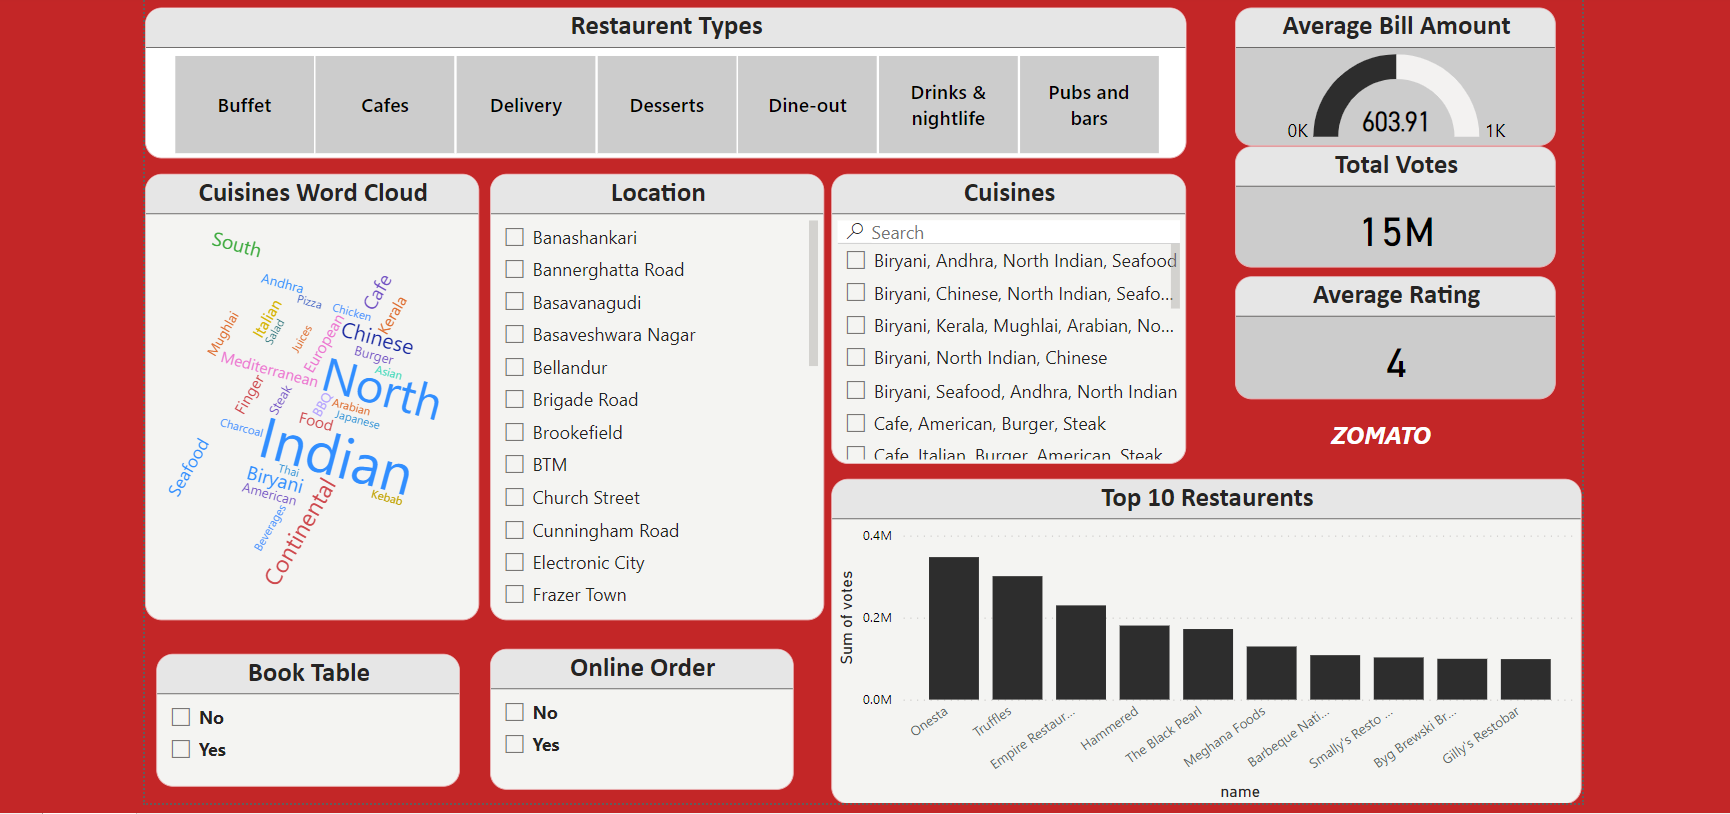

The dashboard page shown, as its layout file describes it:
{"tool":"powerbi","page":{"name":"Page 1","canvas":[1280,720],"ordinal":0},"visuals":[{"type":"slicer","title":"Restaurent Types","fields":{"Values":["zomato.listed_in(type)"]},"box":[0,0,927.4,135.1],"z":0},{"type":"gauge","title":"Average Bill Amount","fields":{"Y":["Avg(zomato.approx_cost(for two people))"]},"box":[969.6,0,285.8,123],"z":1000},{"type":"card","title":"Total Votes","fields":{"Values":["Sum(zomato.votes)"]},"box":[970.9,135.1,285.8,107.3],"z":2000},{"type":"card","title":"Average Rating","fields":{"Values":["Avg(zomato.rate)"]},"box":[970.9,250.8,285.8,109.7],"z":3000},{"type":"columnChart","title":"Top 10 Restaurents","fields":{"Y":["Sum(zomato.votes)"],"Category":["zomato.name"]},"box":[611.5,430.6,668.1,289.4],"z":4000},{"type":"slicer","title":"Book Table","fields":{"Values":["zomato.book_table"]},"box":[9.6,586.1,270.1,118.2],"z":5000},{"type":"slicer","title":"Online Order","fields":{"Values":["zomato.online_order"]},"box":[307.5,582.5,270.1,125.4],"z":6000},{"type":"slicer","title":"Location","fields":{"Values":["zomato.location"]},"box":[307.5,159.2,297.9,398],"z":7000},{"type":"slicer","title":"Cuisines","fields":{"Values":["zomato.cuisines"]},"box":[611.5,159.2,316,258.1],"z":8000},{"type":"WordCloud1447959067750","title":"Cuisines Word Cloud","fields":{"Category":["zomato.cuisines"]},"box":[0,159.2,297.9,398],"z":9000},{"type":"textbox","box":[1007,371.4,186.9,45.8],"z":10000}]}

Visuals, with their boxes in screenshot pixels (x1, y1, x2, y2):
"Restaurent Types" slicer: 144 0 1180 151
"Average Bill Amount" gauge: 1227 0 1546 137
"Total Votes" card: 1229 151 1548 271
"Average Rating" card: 1229 280 1548 403
"Top 10 Restaurents" columnChart: 827 481 1573 804
"Book Table" slicer: 155 655 457 787
"Online Order" slicer: 488 651 789 791
"Location" slicer: 488 178 820 622
"Cuisines" slicer: 827 178 1180 466
"Cuisines Word Cloud" WordCloud1447959067750: 144 178 477 622
textbox: 1269 415 1478 466
